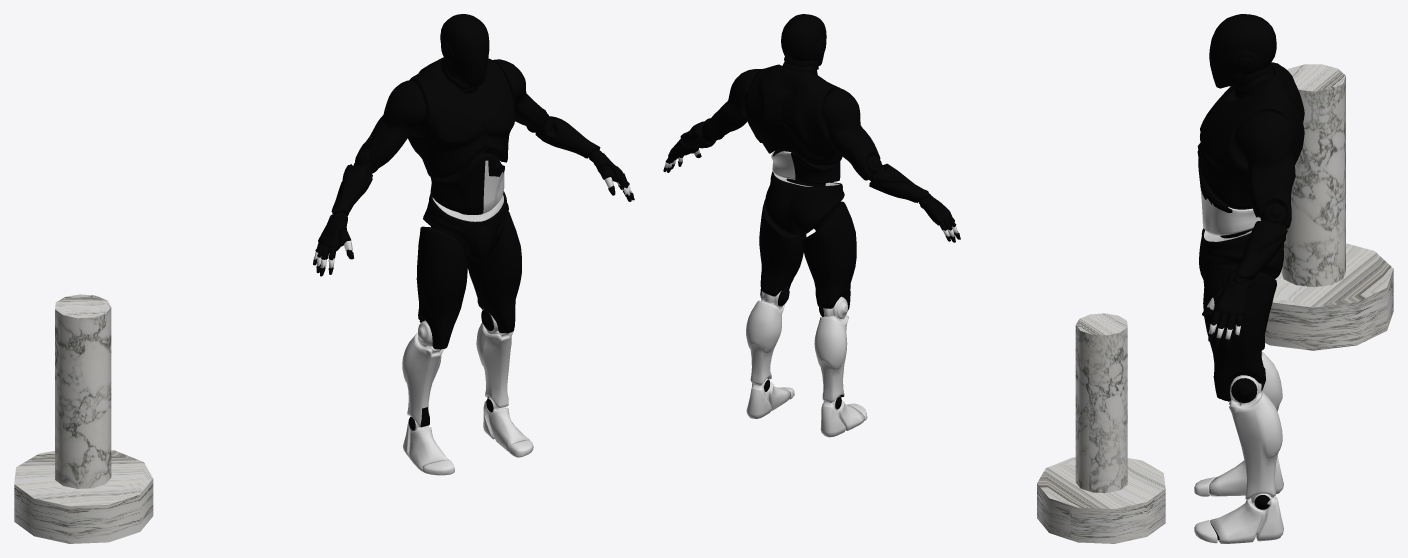
Rendered from Target_stand_uv.FBX.
3 views of the same model, side by side, from view 1: azimuth 30°, elevation 25°; view 2: azimuth 150°, elevation 25°; view 3: azimuth 270°, elevation 25° (orthographic). The views are drawn at different scales.
Parts seen in each view (by area): view 1: ReferenceModel, Cylinder002; view 2: ReferenceModel, Cylinder002; view 3: ReferenceModel, Cylinder002.
Part boxes in pixels (box(x1,y1,x2,y2)): ReferenceModel: box(313, 14, 634, 475); Cylinder002: box(14, 294, 153, 543); ReferenceModel: box(663, 14, 960, 437); Cylinder002: box(1037, 313, 1165, 543); ReferenceModel: box(1194, 14, 1304, 543); Cylinder002: box(1264, 64, 1393, 350).
Size of the model in its own units: 251 by 66.34 by 183.
3 materials, 1 textured.
